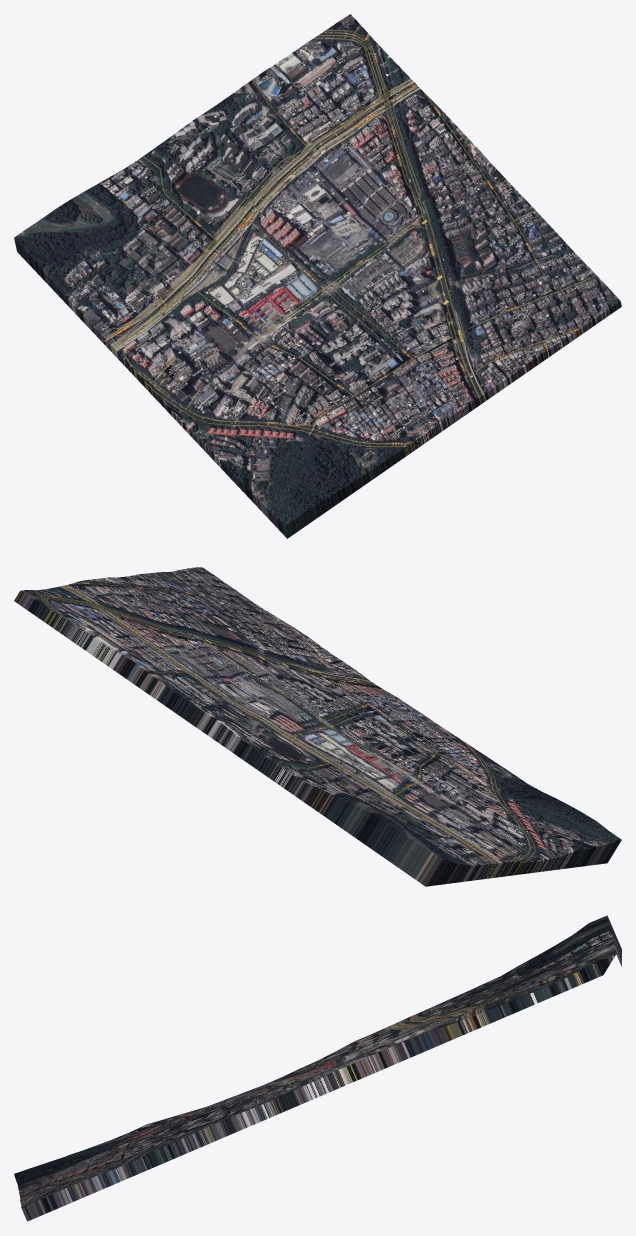
The picture shows the model from 3 angles, top to bottom: view 1: azimuth 30°, elevation 25°; view 2: azimuth 150°, elevation 25°; view 3: azimuth 270°, elevation 25°; orthographic projection. The views are drawn at different scales.
Visible parts, largest first — view 1: 1_1_6; view 2: 1_1_6; view 3: 1_1_6.
Part boxes in pixels (x1=…): 1_1_6: x1=14, y1=14, x2=621, y2=538; 1_1_6: x1=14, y1=567, x2=621, y2=886; 1_1_6: x1=14, y1=915, x2=621, y2=1221.
Bounding box in the file's own units: 1248 × 907 × 1144.
Materials: 1 (1 with a texture image).
